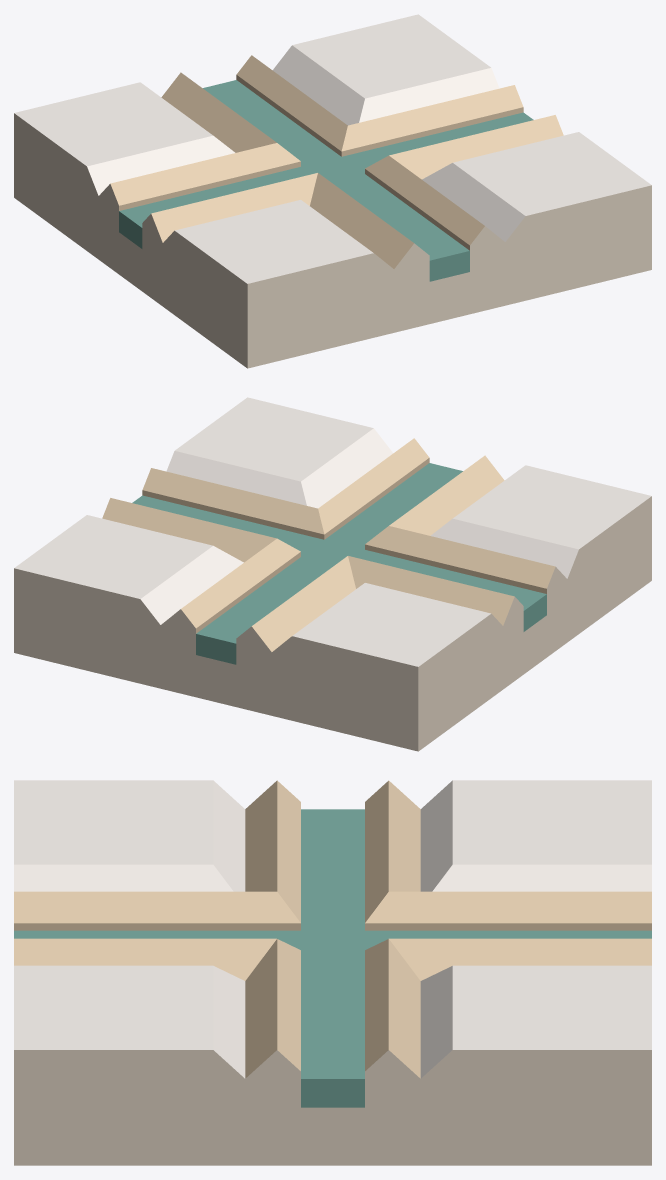
Rendered from Puzzle_Floor_Conduit_Standard_Cross.glb.
3 views of the same model, one above another, from view 1: azimuth 30°, elevation 25°; view 2: azimuth 150°, elevation 25°; view 3: azimuth 270°, elevation 25° (orthographic). The views are drawn at different scales.
Parts seen in each view (by area): view 1: Puzzle_Floor_Conduit_Standard_Cross; view 2: Puzzle_Floor_Conduit_Standard_Cross; view 3: Puzzle_Floor_Conduit_Standard_Cross.
Part boxes in pixels (x1,y1,x2,y2): Puzzle_Floor_Conduit_Standard_Cross: (14,14,651,368); Puzzle_Floor_Conduit_Standard_Cross: (14,397,651,751); Puzzle_Floor_Conduit_Standard_Cross: (14,780,651,1165).
Bounding box in the file's own units: 1 × 0.2 × 1.
